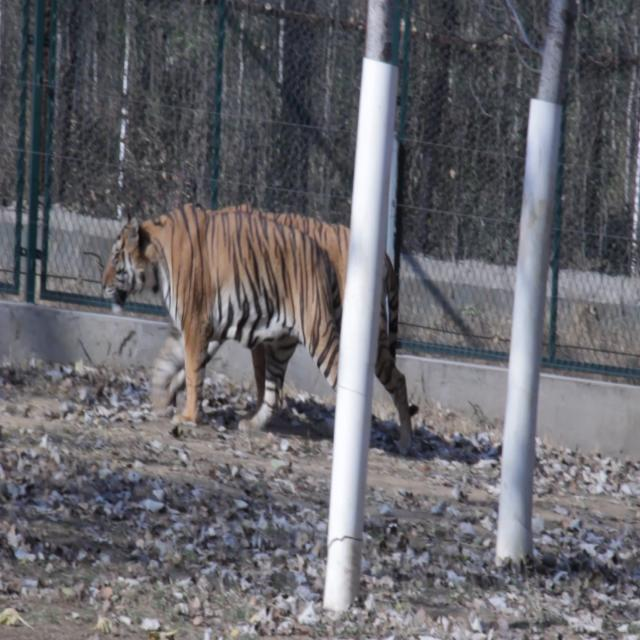Tiger: (87, 198, 341, 418)
